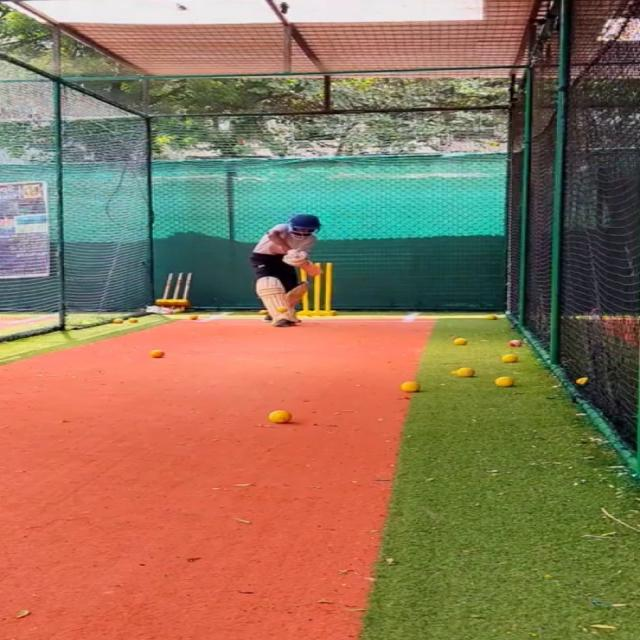ball: (268, 408, 294, 425), (398, 380, 424, 394), (455, 364, 478, 378), (496, 376, 516, 388), (502, 353, 522, 363), (150, 349, 168, 360), (452, 338, 470, 348), (510, 338, 525, 346), (276, 304, 290, 312), (127, 316, 141, 324), (257, 308, 269, 314), (489, 314, 499, 320), (191, 314, 199, 320)
stump: (302, 261, 337, 317)
